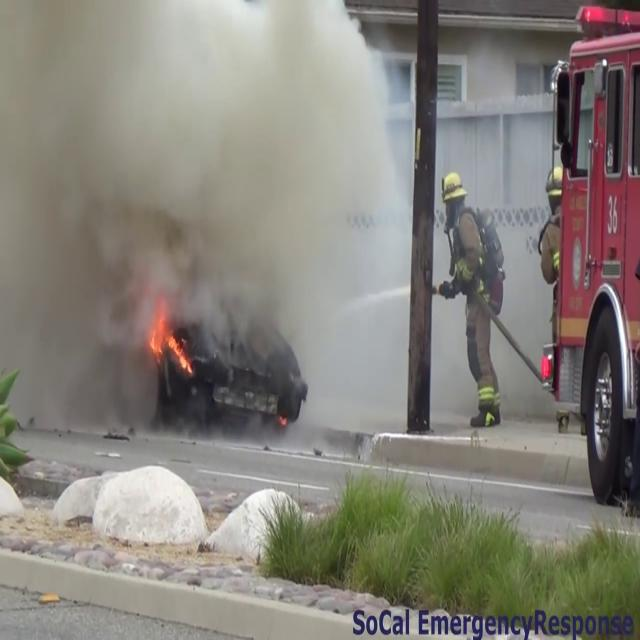Fire: (145, 296, 194, 378)
Smoke: (0, 0, 404, 426)
